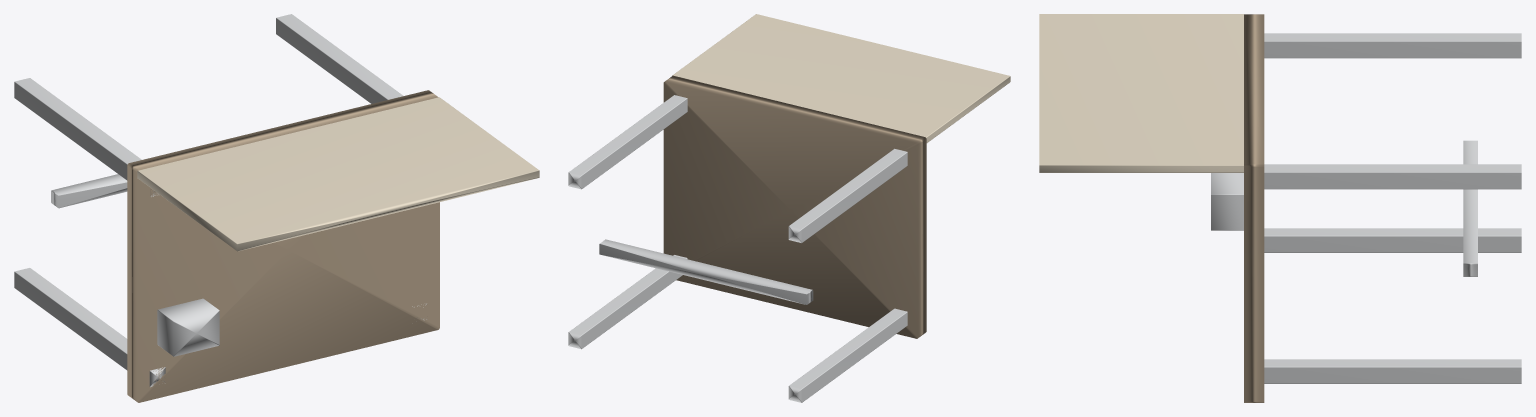
File: workshop.glb
3 views of the same model, side by side, from view 1: azimuth 30°, elevation 25°; view 2: azimuth 150°, elevation 25°; view 3: azimuth 270°, elevation 25° (orthographic). The views are drawn at different scales.
Parts seen in each view (by area): view 1: bench, pegboard, frame, vice, stretcher; view 2: bench, pegboard, frame, stretcher; view 3: pegboard, frame, bench, vice, stretcher.
Boxes of the visible parts, <box> form: bench: <box>127,90,439,402</box>; pegboard: <box>137,97,539,251</box>; frame: <box>14,14,426,387</box>; vice: <box>157,298,219,356</box>; stretcher: <box>51,174,127,208</box>; bench: <box>663,75,926,338</box>; pegboard: <box>672,14,1010,142</box>; frame: <box>568,95,907,402</box>; stretcher: <box>599,239,813,304</box>; pegboard: <box>1039,14,1243,172</box>; frame: <box>1264,33,1521,383</box>; bench: <box>1244,14,1264,402</box>; vice: <box>1211,173,1243,230</box>; stretcher: <box>1463,140,1477,276</box>.
Bounding box in the file's own units: 0.98 × 0.72 × 1.32.
